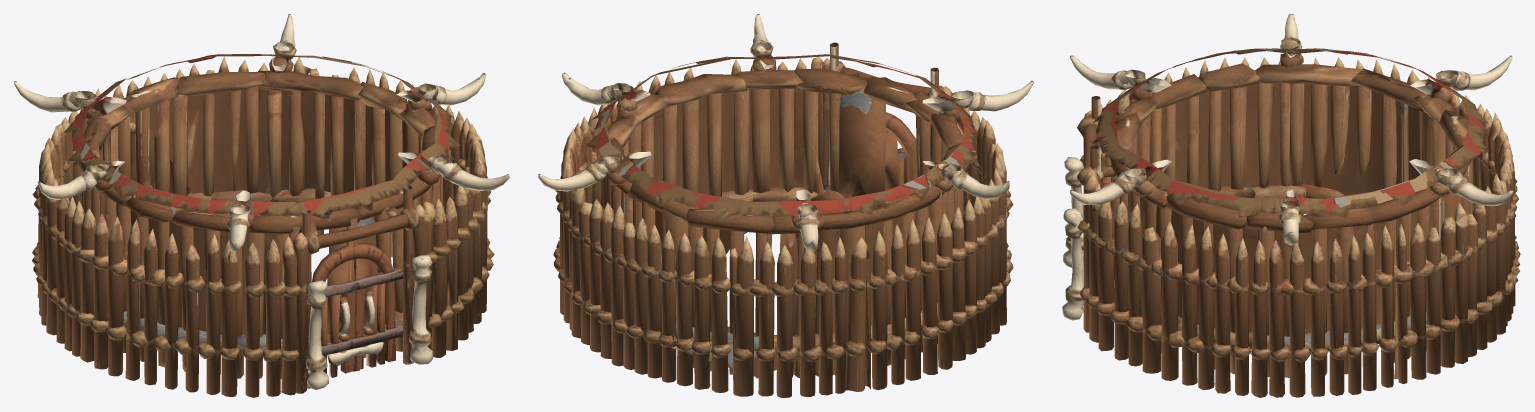
File: salon-de-guerra_e2.glb
3 renders of one model, left to right at view 1: azimuth 30°, elevation 25°; view 2: azimuth 150°, elevation 25°; view 3: azimuth 270°, elevation 25°, orthographic.
Bounding box in the file's own units: 12 × 4.56 × 10.61.
Materials: 1 (1 with a texture image).
